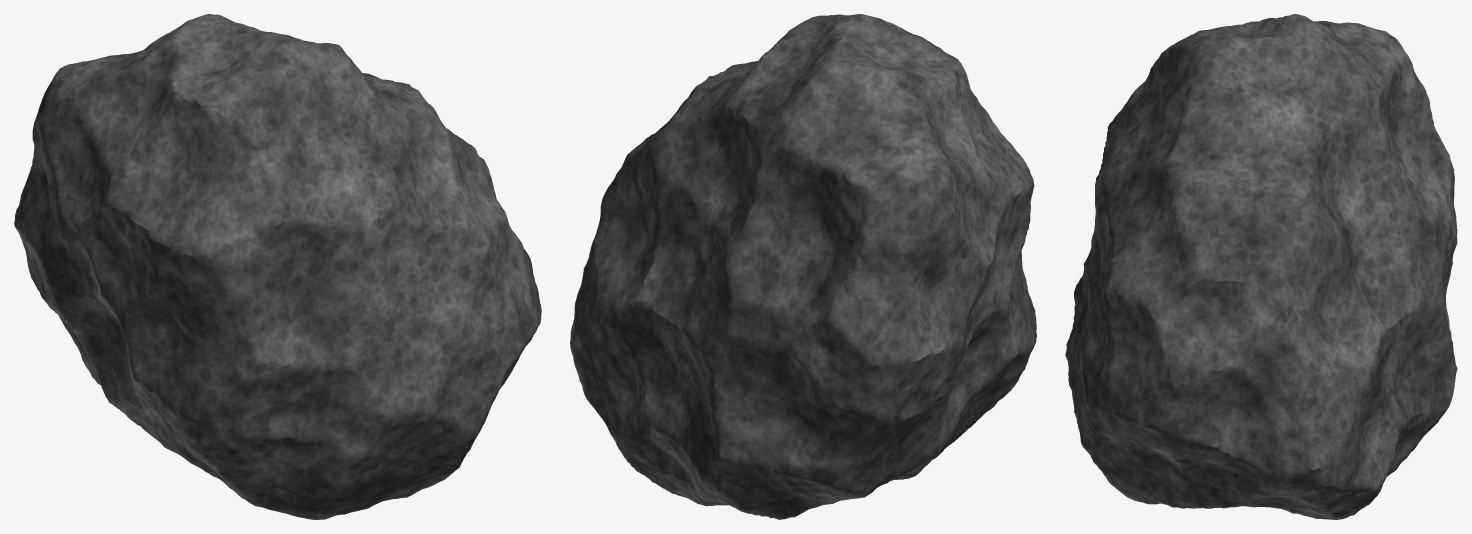
The model's file is asteroid_2.glb.
3 renders of one model, left to right at view 1: azimuth 30°, elevation 25°; view 2: azimuth 150°, elevation 25°; view 3: azimuth 270°, elevation 25°, orthographic. The views are drawn at different scales.
Parts seen in each view (by area): view 1: asteroid; view 2: asteroid; view 3: asteroid.
Boxes of the visible parts, left/top/right/bottom form: asteroid: left=14, top=14, right=541, bottom=519; asteroid: left=570, top=14, right=1036, bottom=519; asteroid: left=1065, top=14, right=1457, bottom=519.
Bounding box in the file's own units: 3.03 × 3.28 × 2.66.
1 material, 1 textured.
